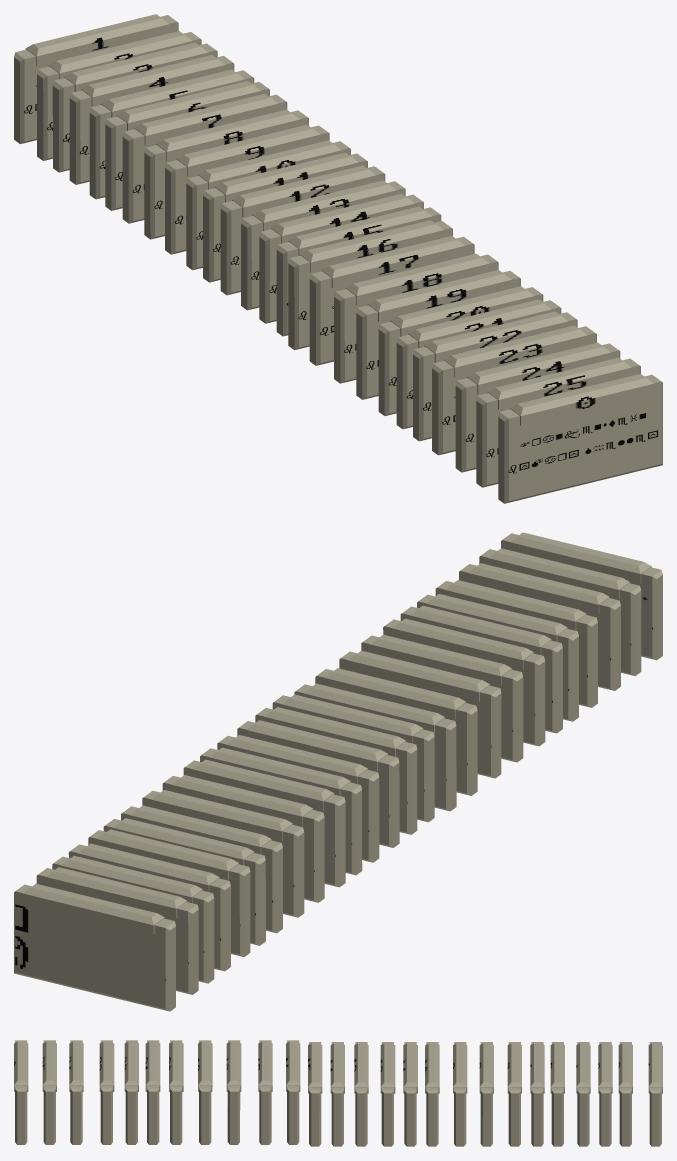
The model's file is Frankenstein tapes.fbx.
3 views of the same model, one above another, from view 1: azimuth 30°, elevation 25°; view 2: azimuth 150°, elevation 25°; view 3: azimuth 270°, elevation 25° (orthographic). The views are drawn at different scales.
Parts seen in each view (by area): view 1: tapePlayer:Frankenstein25, tapePlayer:Frankenstein16, tapePlayer:Frankenstein22, tapePlayer:Frankenstein, tapePlayer:Frankenstein18, tapePlayer:Frankenstein17, tapePlayer:Frankenstein24, tapePlayer:Frankenstein6, tapePlayer:Frankenstein15, tapePlayer:Frankenstein8, tapePlayer:Frankenstein23, tapePlayer:Frankenstein7 (+14 smaller); view 2: tapePlayer:Frankenstein, tapePlayer:Frankenstein17, tapePlayer:Frankenstein23, tapePlayer:Frankenstein1, tapePlayer:Frankenstein19, tapePlayer:Frankenstein18, tapePlayer:Frankenstein25, tapePlayer:Frankenstein7, tapePlayer:Frankenstein16, tapePlayer:Frankenstein9, tapePlayer:Frankenstein24, tapePlayer:Frankenstein8 (+14 smaller); view 3: tapePlayer:Frankenstein17, tapePlayer:Frankenstein22, tapePlayer:Frankenstein20, tapePlayer:Frankenstein11, tapePlayer:Frankenstein16, tapePlayer:Frankenstein23, tapePlayer:Frankenstein2, tapePlayer:Frankenstein9, tapePlayer:Frankenstein10, tapePlayer:Frankenstein12, tapePlayer:Frankenstein15, tapePlayer:Frankenstein18 (+14 smaller).
Part boxes in pixels (x1=…): tapePlayer:Frankenstein25: x1=498, y1=374, x2=662, y2=503; tapePlayer:Frankenstein16: x1=309, y1=236, x2=474, y2=365; tapePlayer:Frankenstein22: x1=432, y1=325, x2=596, y2=455; tapePlayer:Frankenstein: x1=14, y1=14, x2=178, y2=143; tapePlayer:Frankenstein18: x1=356, y1=270, x2=520, y2=399; tapePlayer:Frankenstein17: x1=334, y1=253, x2=498, y2=383; tapePlayer:Frankenstein24: x1=476, y1=357, x2=640, y2=487; tapePlayer:Frankenstein6: x1=122, y1=93, x2=287, y2=223; tapePlayer:Frankenstein15: x1=288, y1=220, x2=452, y2=350; tapePlayer:Frankenstein8: x1=165, y1=124, x2=329, y2=254; tapePlayer:Frankenstein23: x1=455, y1=342, x2=620, y2=472; tapePlayer:Frankenstein7: x1=144, y1=109, x2=308, y2=239; tapePlayer:Frankenstein: x1=14, y1=883, x2=175, y2=1011; tapePlayer:Frankenstein17: x1=339, y1=650, x2=501, y2=778; tapePlayer:Frankenstein23: x1=459, y1=563, x2=620, y2=690; tapePlayer:Frankenstein1: x1=36, y1=867, x2=198, y2=994; tapePlayer:Frankenstein19: x1=383, y1=618, x2=545, y2=746; tapePlayer:Frankenstein18: x1=361, y1=634, x2=523, y2=762; tapePlayer:Frankenstein25: x1=501, y1=532, x2=662, y2=660; tapePlayer:Frankenstein7: x1=142, y1=790, x2=304, y2=917; tapePlayer:Frankenstein16: x1=315, y1=668, x2=477, y2=795; tapePlayer:Frankenstein9: x1=183, y1=759, x2=345, y2=887; tapePlayer:Frankenstein24: x1=479, y1=548, x2=641, y2=675; tapePlayer:Frankenstein8: x1=162, y1=775, x2=324, y2=902; tapePlayer:Frankenstein17: x1=226, y1=1040, x2=241, y2=1144; tapePlayer:Frankenstein22: x1=99, y1=1040, x2=114, y2=1144; tapePlayer:Frankenstein20: x1=145, y1=1040, x2=160, y2=1144; tapePlayer:Frankenstein11: x1=380, y1=1042, x2=395, y2=1146; tapePlayer:Frankenstein16: x1=258, y1=1040, x2=272, y2=1144; tapePlayer:Frankenstein23: x1=69, y1=1040, x2=83, y2=1144; tapePlayer:Frankenstein2: x1=598, y1=1042, x2=612, y2=1146; tapePlayer:Frankenstein9: x1=425, y1=1042, x2=439, y2=1146; tapePlayer:Frankenstein10: x1=403, y1=1042, x2=417, y2=1146; tapePlayer:Frankenstein12: x1=354, y1=1042, x2=368, y2=1146; tapePlayer:Frankenstein15: x1=286, y1=1040, x2=300, y2=1144; tapePlayer:Frankenstein18: x1=198, y1=1040, x2=212, y2=1144.
Size of the model in its own units: 1.13 by 0.599 by 5.97.
3 materials, 3 textured.
